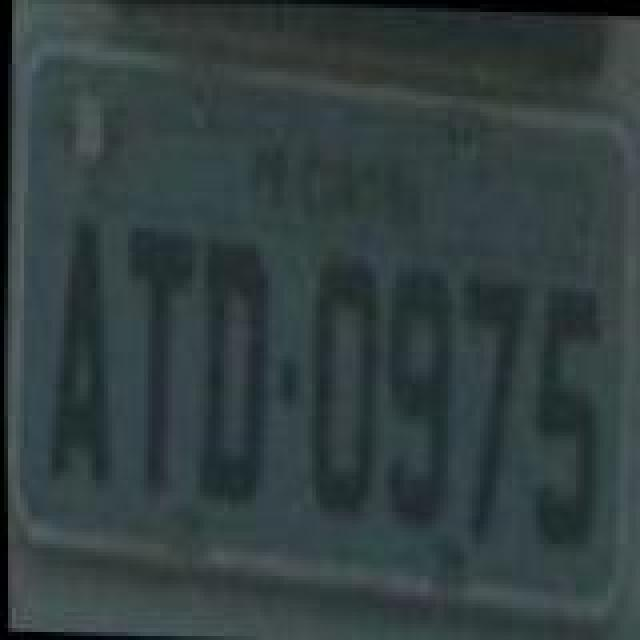5: (522, 276, 602, 548)
7: (452, 268, 528, 540)
9: (378, 258, 458, 530)
A: (40, 220, 116, 492)
D: (188, 230, 272, 510)
O: (298, 250, 378, 514)
T: (114, 222, 194, 494)
